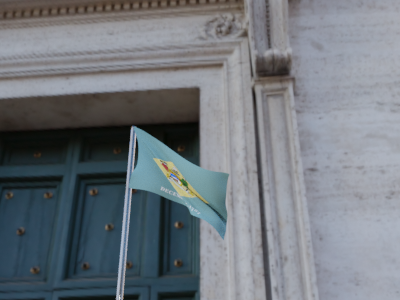Delaware flag: (131, 126, 230, 241)
